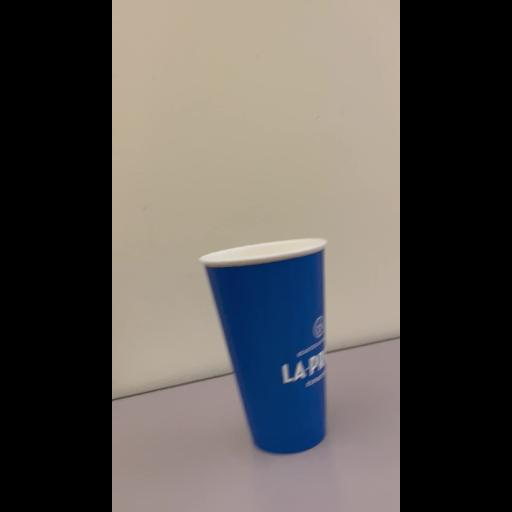lp_paper_cup: (198, 237, 332, 455)
